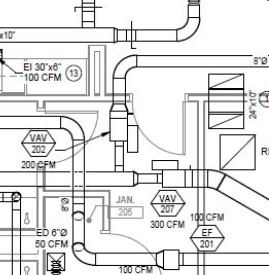VAV: (103, 90, 142, 157), (147, 147, 197, 197)
